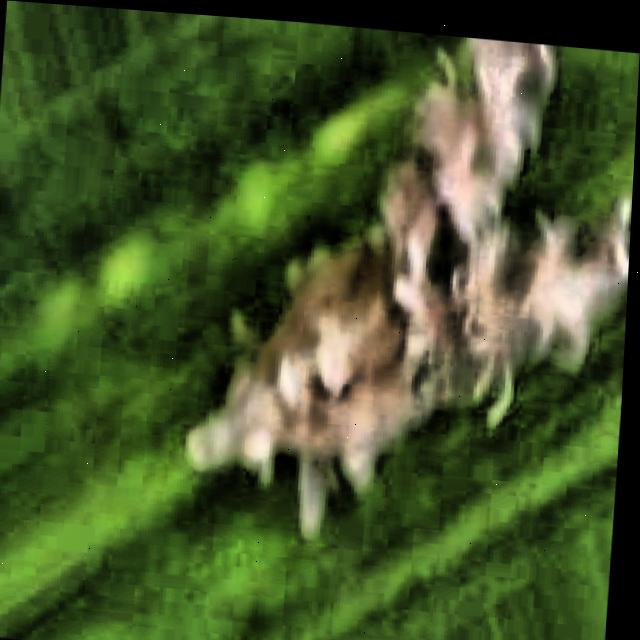Pyrilla-perpusilla: (0, 0, 640, 549)
